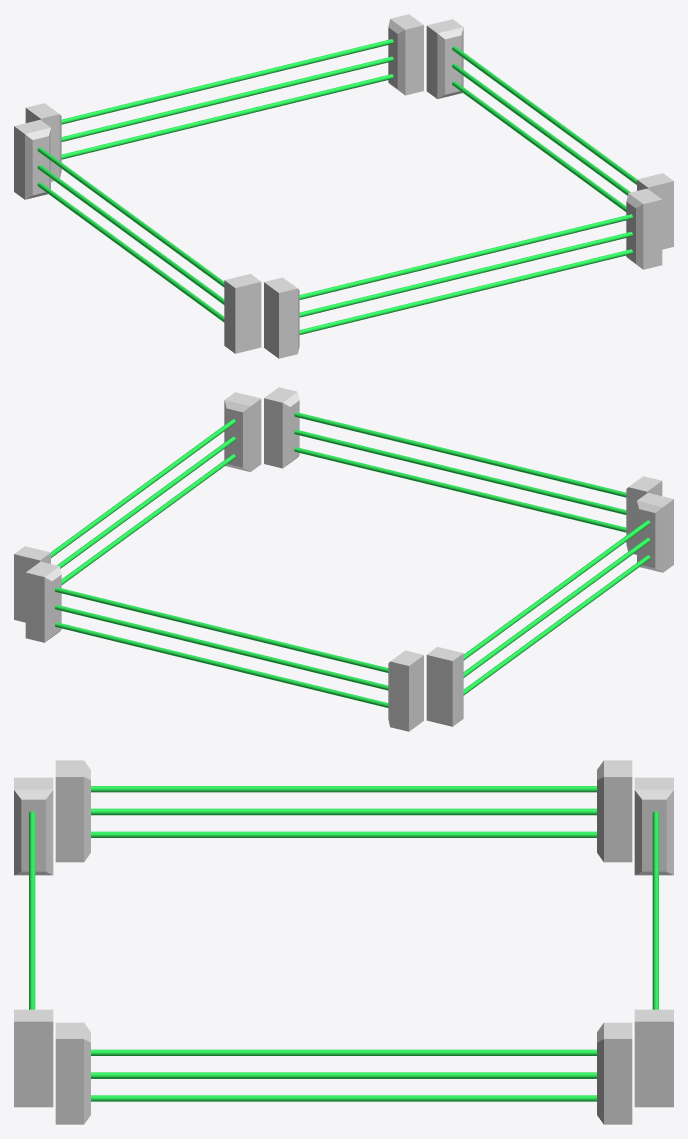
File: Gates.fbx
The picture shows the model from 3 angles, top to bottom: view 1: azimuth 30°, elevation 25°; view 2: azimuth 150°, elevation 25°; view 3: azimuth 270°, elevation 25°; orthographic projection. The views are drawn at different scales.
Visible parts, largest first — view 1: Cylinder, Cylinder.002, Cube.001, Cube, Cube.003, Cylinder.001, Cube.002, Cylinder.003; view 2: Cylinder.002, Cylinder, Cube.001, Cube.002, Cube.003, Cylinder.001, Cube, Cylinder.003; view 3: Cylinder.001, Cylinder.003, Cube, Cube.002, Cube.001, Cube.003, Cylinder, Cylinder.002.
Boxes of the visible parts, x1,y1,x2,y2 form: Cylinder: [299, 214, 632, 334]; Cylinder.002: [61, 39, 393, 159]; Cube.001: [14, 120, 261, 353]; Cube: [264, 188, 662, 358]; Cube.003: [426, 19, 673, 249]; Cylinder.001: [37, 147, 224, 322]; Cube.002: [25, 14, 423, 181]; Cylinder.003: [452, 46, 636, 211]; Cylinder.002: [55, 587, 388, 707]; Cylinder: [294, 412, 626, 532]; Cube.001: [426, 493, 673, 726]; Cube.002: [25, 561, 423, 731]; Cube.003: [14, 392, 261, 622]; Cylinder.001: [463, 520, 650, 695]; Cube: [264, 387, 662, 554]; Cylinder.003: [51, 419, 235, 584]; Cylinder.001: [91, 786, 596, 837]; Cylinder.003: [91, 1049, 596, 1101]; Cube: [14, 777, 53, 1107]; Cube.002: [634, 777, 673, 1107]; Cube.001: [55, 760, 632, 862]; Cube.003: [55, 1022, 632, 1124]; Cylinder: [29, 811, 35, 1009]; Cylinder.002: [652, 811, 658, 1009].
Size of the model in its own units: 99.75 by 14.28 by 99.75.
